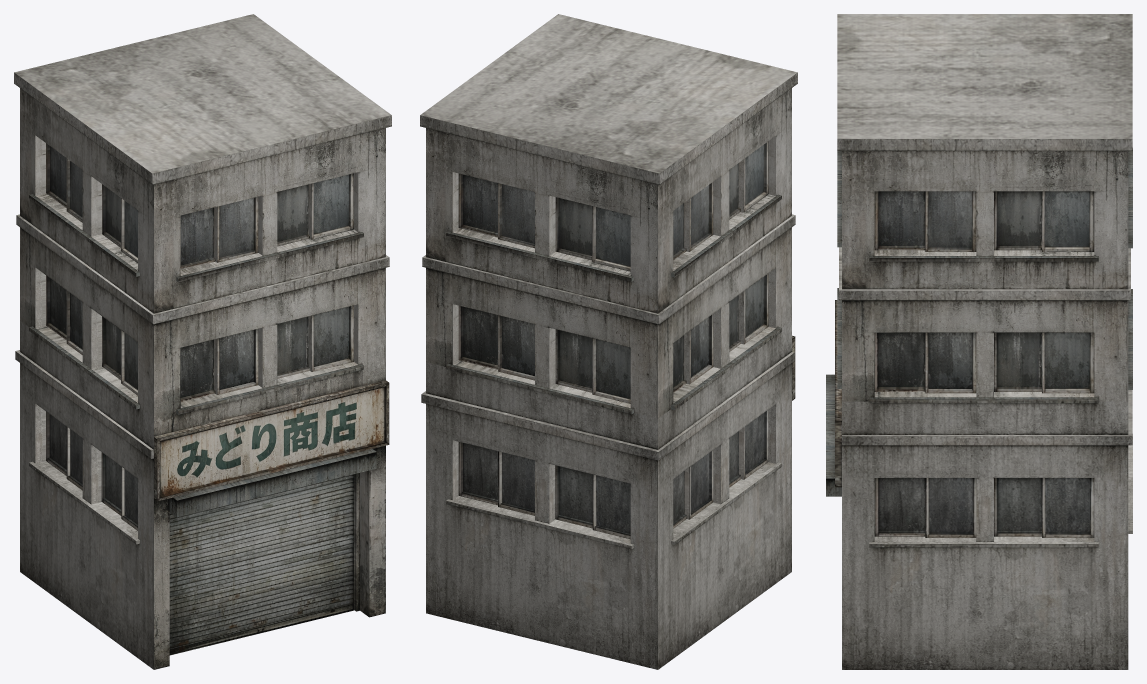
Rendered from old_japanese_store__lowpoly-DJHefVd3.glb.
3 views of the same model, side by side, from view 1: azimuth 30°, elevation 25°; view 2: azimuth 150°, elevation 25°; view 3: azimuth 270°, elevation 25° (orthographic). The views are drawn at different scales.
Visible parts, largest first — view 1: model; view 2: model; view 3: model.
Boxes of the visible parts, <box> form: model: <box>14,14,391,669</box>; model: <box>420,14,797,669</box>; model: <box>826,14,1132,669</box>.
Bounding box in the file's own units: 4.04 × 8.04 × 4.19.
Materials: 2 (2 with a texture image).
